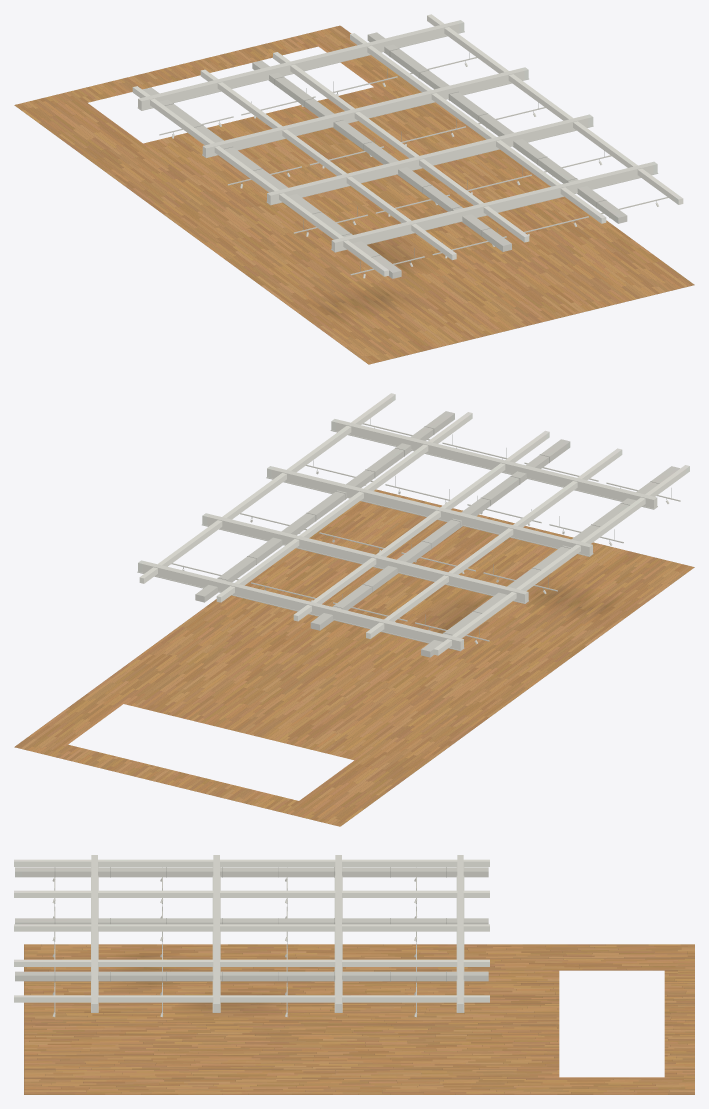
The model's file is oak-and-lighting.glb.
The picture shows the model from 3 angles, top to bottom: view 1: azimuth 30°, elevation 25°; view 2: azimuth 150°, elevation 25°; view 3: azimuth 270°, elevation 25°; orthographic projection. The views are drawn at different scales.
Parts seen in each view (by area): view 1: UniqloUpperSalesFloor; view 2: UniqloUpperSalesFloor; view 3: UniqloUpperSalesFloor.
Part boxes in pixels (x1,y1,x2,y2): UniqloUpperSalesFloor: (14,14,694,364); UniqloUpperSalesFloor: (14,393,694,826); UniqloUpperSalesFloor: (14,855,694,1094).
Size of the model in its own units: 17.04 by 4.73 by 32.39.
1 material, 1 textured.
